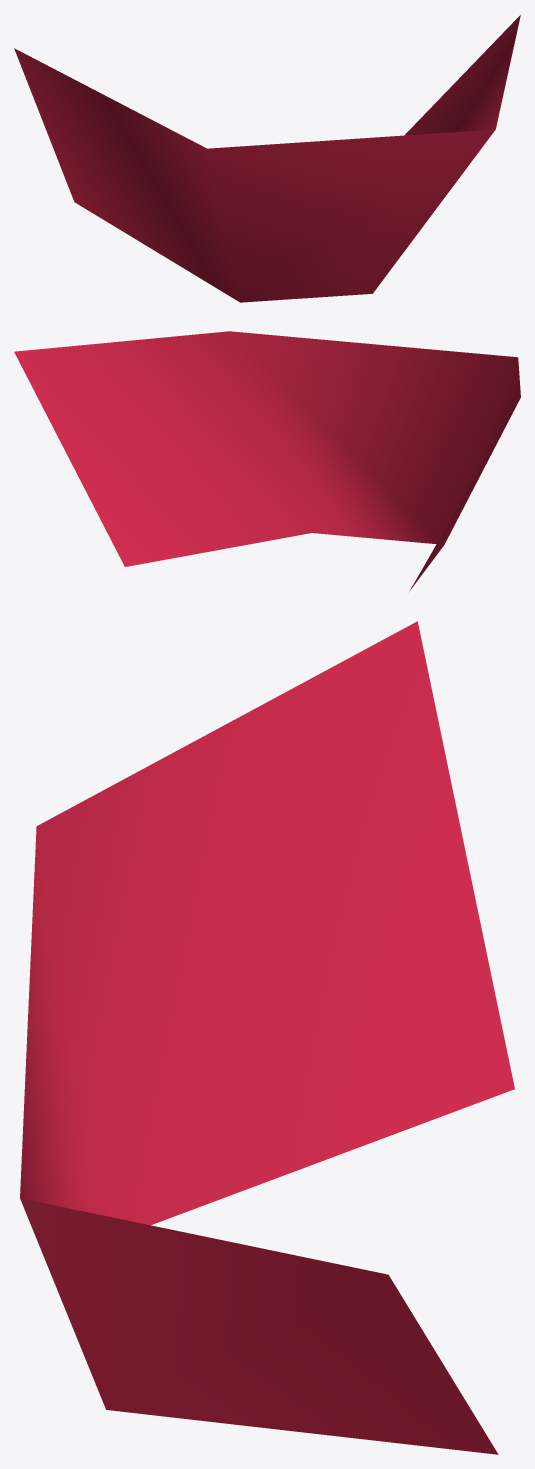
3 renders of one model, top to bottom at view 1: azimuth 30°, elevation 25°; view 2: azimuth 150°, elevation 25°; view 3: azimuth 270°, elevation 25°, orthographic. The views are drawn at different scales.
Visible parts, largest first — view 1: ef_421; view 2: ef_421; view 3: ef_421.
Part boxes in pixels (x1=…): ef_421: x1=14, y1=15, x2=520, y2=302; ef_421: x1=14, y1=331, x2=520, y2=591; ef_421: x1=20, y1=621, x2=514, y2=1454.
Bounding box in the file's own units: 0.8581 × 0.4222 × 0.3681.
Materials: 1 (1 with a texture image).
